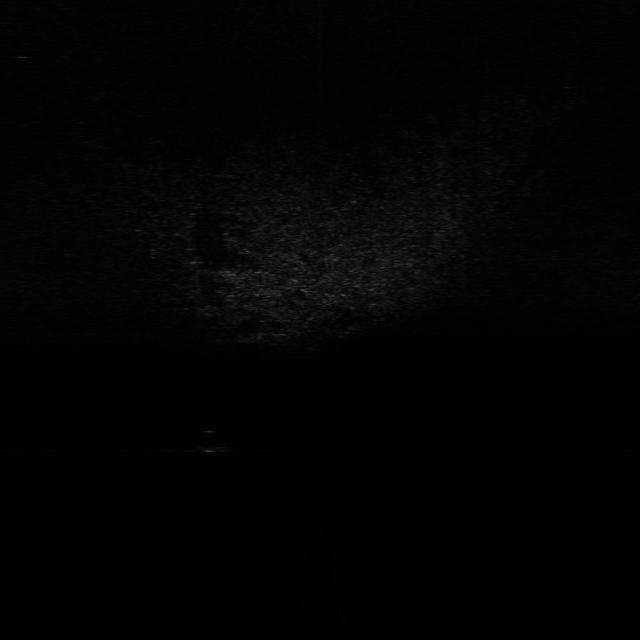ball: (188, 425, 230, 455)
